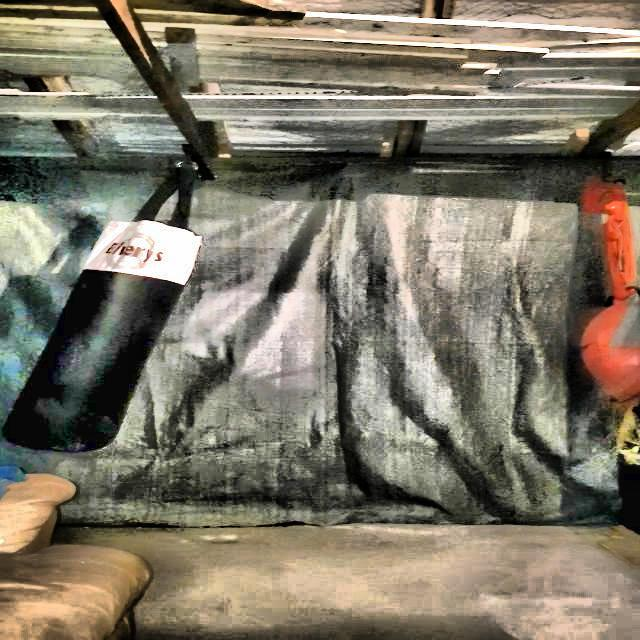boxing-bag: (9, 142, 207, 464)
